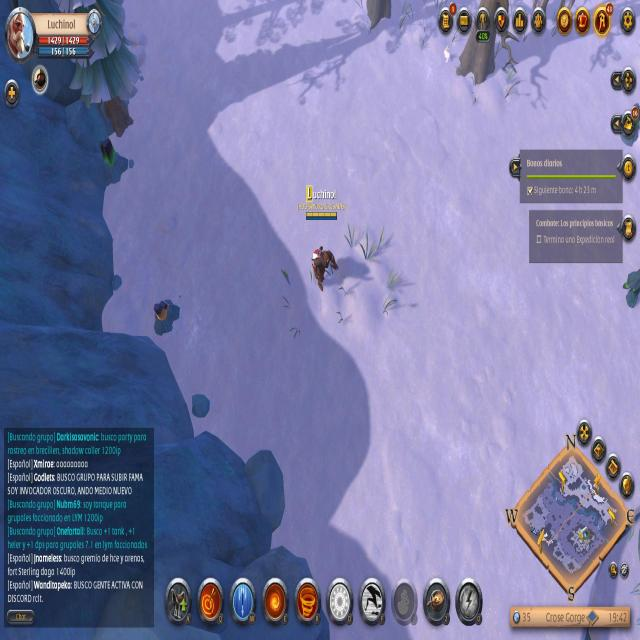piedra_cobre: (154, 297, 183, 343)
